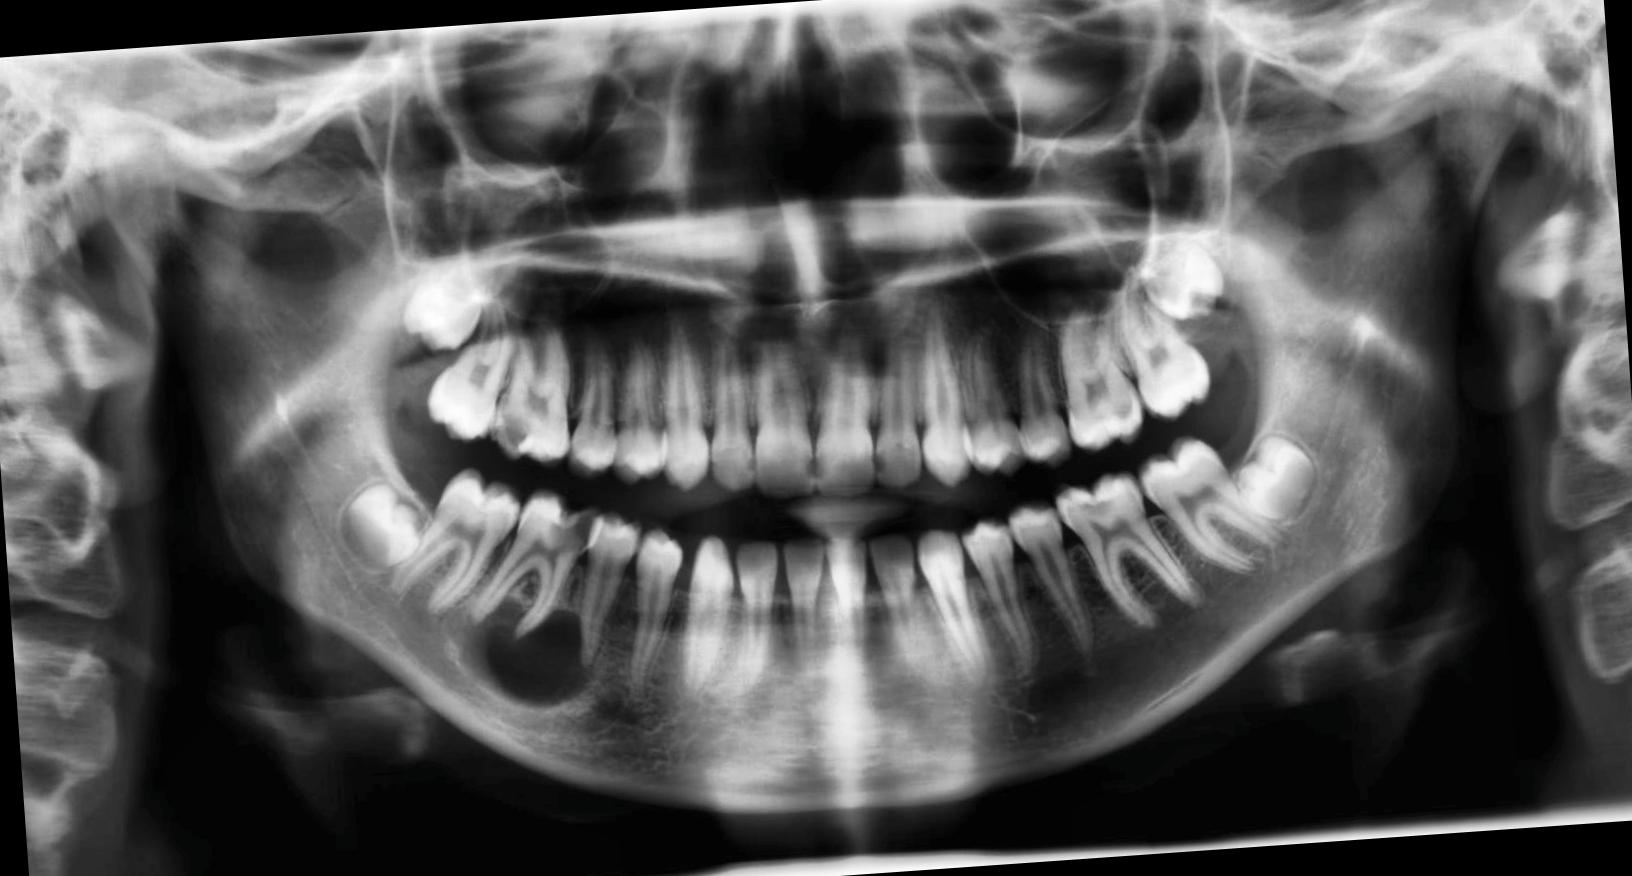radikuler: (436, 586, 616, 718)
